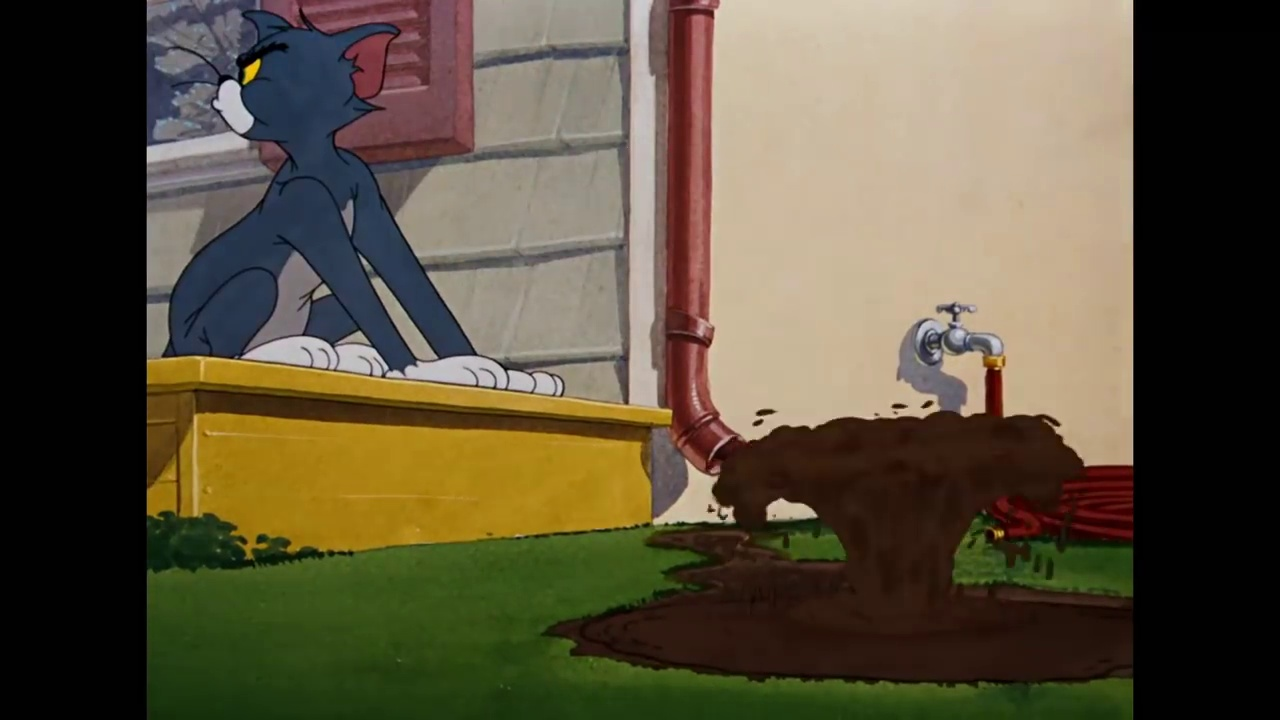tom: (198, 8, 402, 158)
